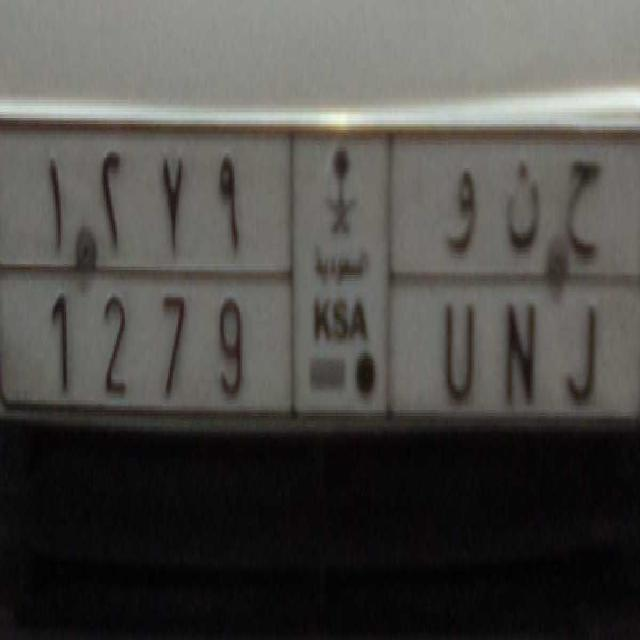license_plate: (36, 257, 609, 426)
